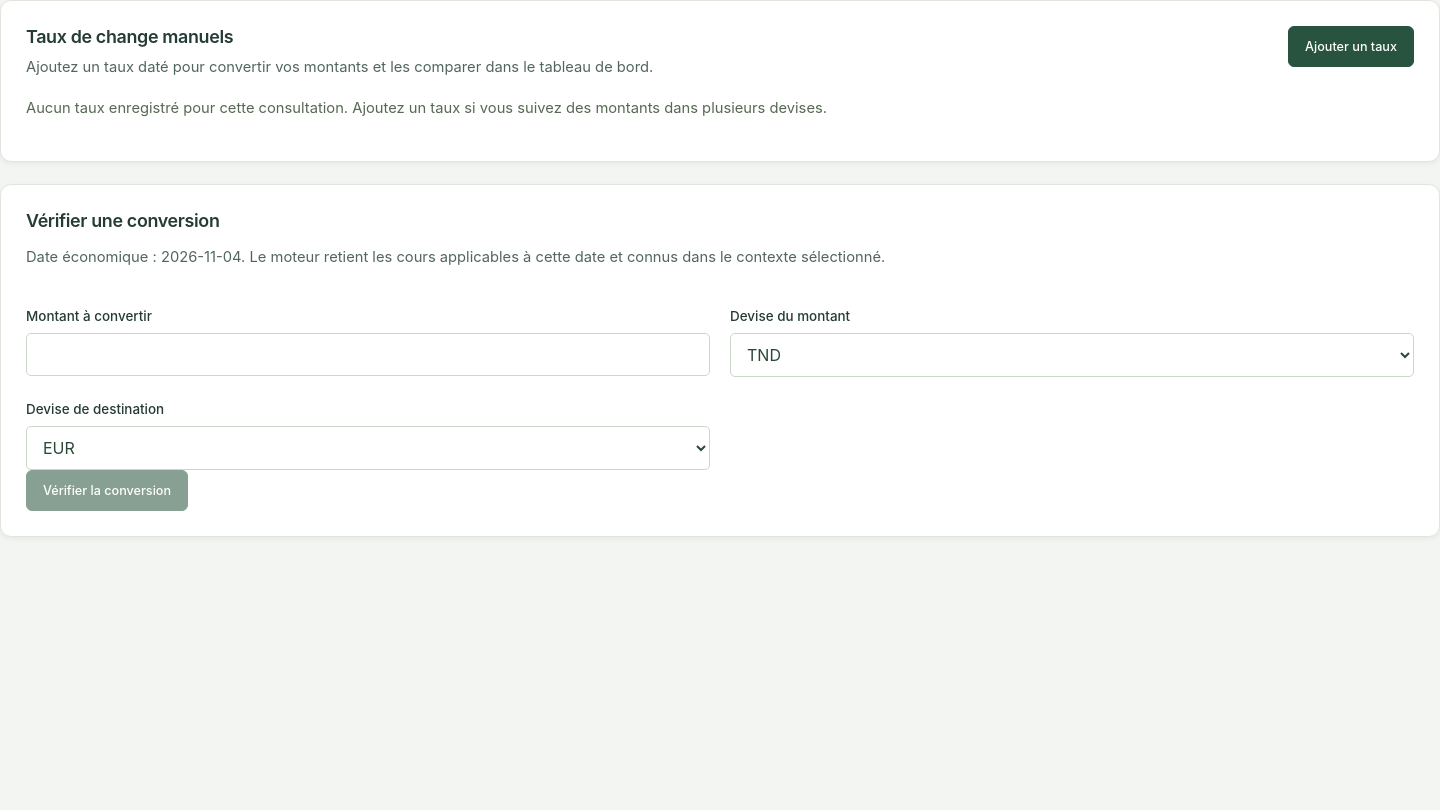
Test case: Taux manuels et conversions locales › REG-06 masque le résultat précédent après modification de Devise de destination
Step 1. Type "10" into the field labelled "Montant à convertir" → (368, 355), box 26,334 -> 710,376
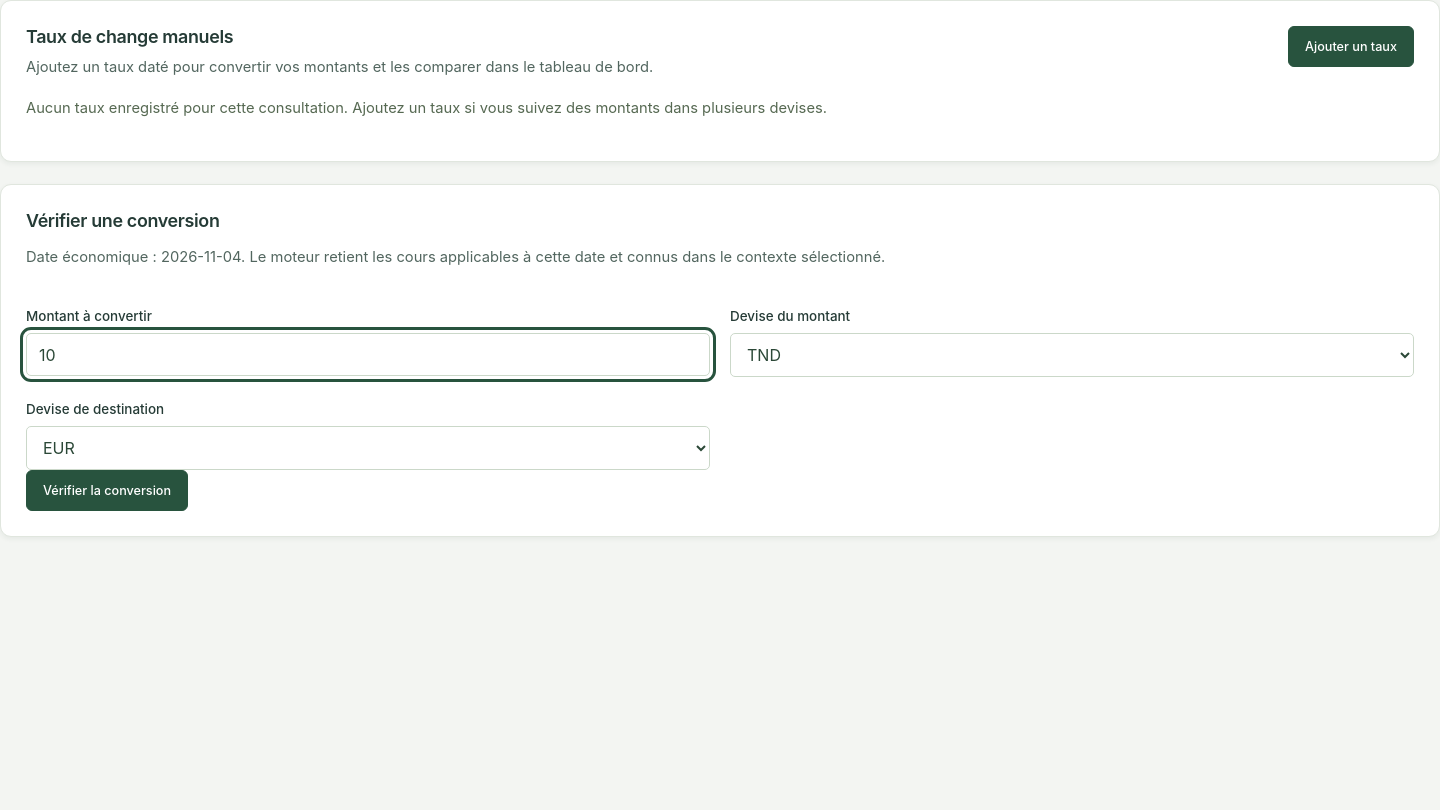
Step 2. Click the button "Vérifier la conversion" → (107, 491), box 26,470 -> 188,512
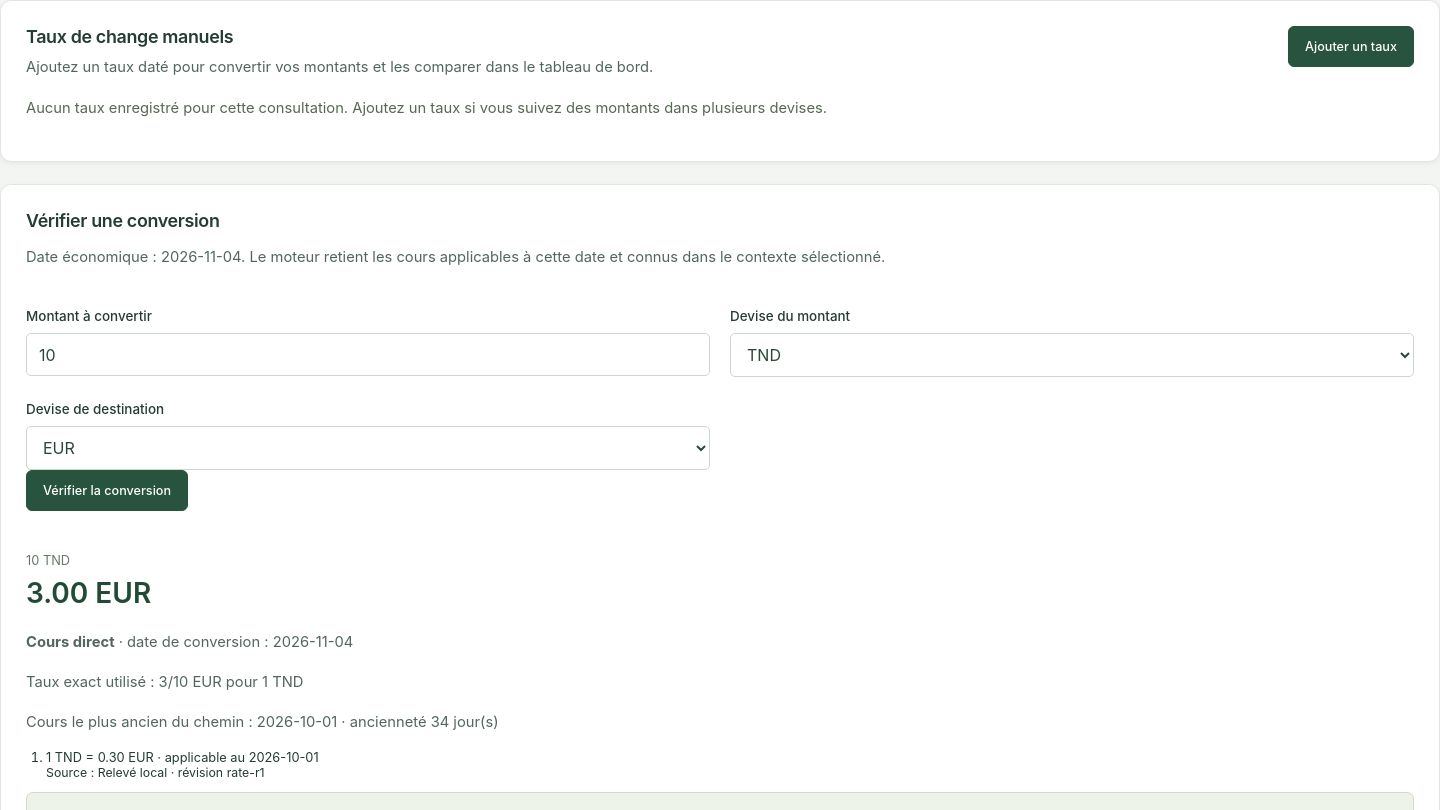
Result: the text "3.00 EUR" is shown at 26,576 -> 151,610
Step 3. Select "CHF" in the dropdown labelled "Devise de destination" → (368, 448), box 26,426 -> 710,470
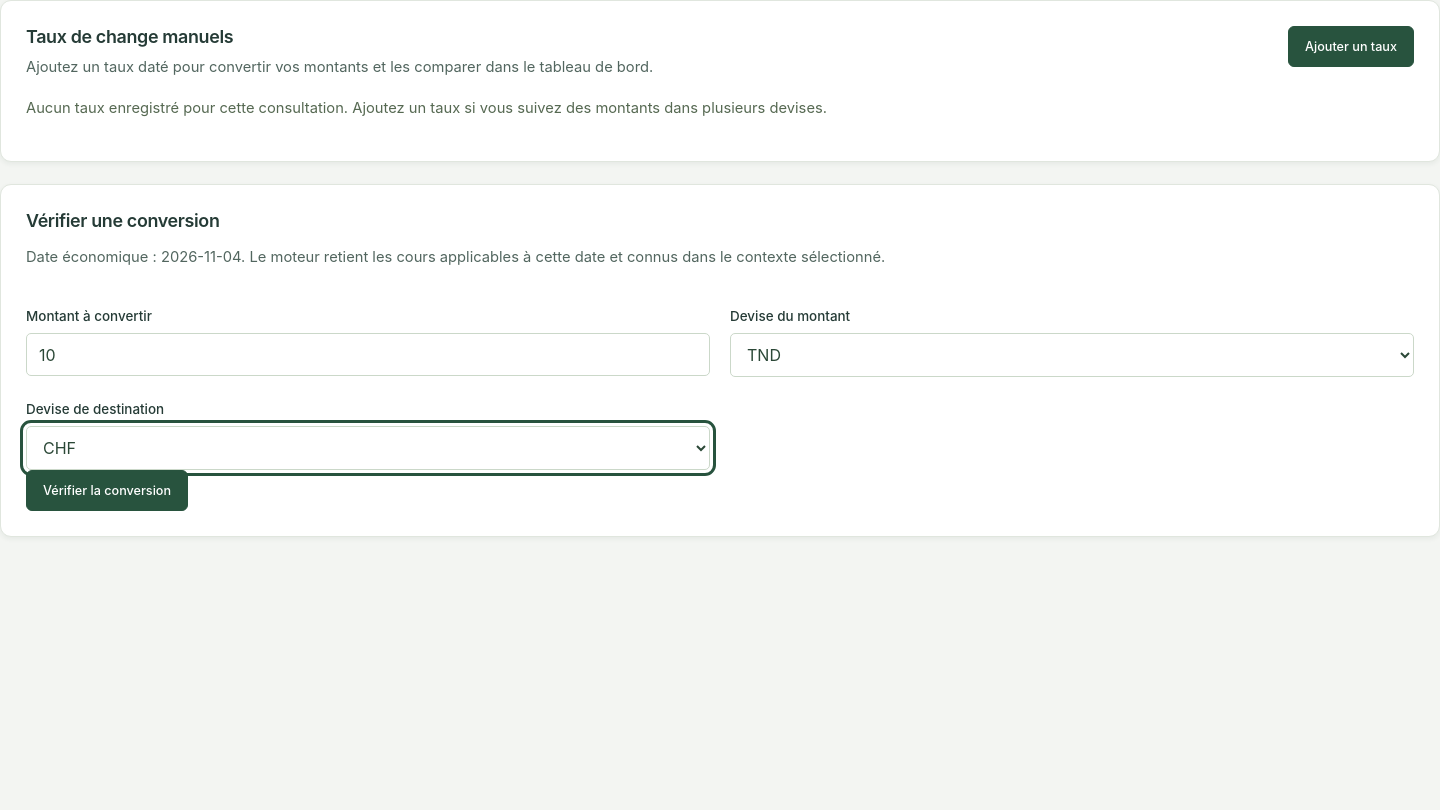
Result: the text "3.00 EUR" is gone
